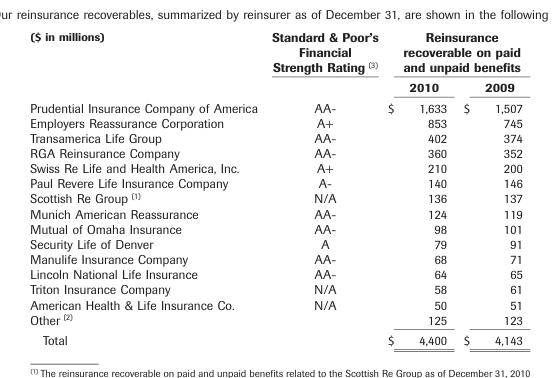table: (29, 28, 521, 347)
table column: (29, 28, 263, 347), (263, 28, 382, 347), (382, 28, 454, 347), (454, 28, 521, 347)
table column header: (29, 28, 521, 97)
table row: (29, 28, 521, 76), (29, 76, 521, 97), (29, 311, 521, 329), (29, 329, 521, 347), (29, 97, 521, 114), (29, 129, 521, 145), (29, 220, 521, 236), (29, 114, 521, 129), (29, 145, 521, 160), (29, 160, 521, 175), (29, 175, 521, 190), (29, 190, 521, 205), (29, 205, 521, 220), (29, 236, 521, 251), (29, 251, 521, 266), (29, 266, 521, 281), (29, 281, 521, 296), (29, 296, 521, 311)
table spanning cell: (29, 28, 263, 97), (263, 28, 382, 97), (382, 28, 521, 76)
